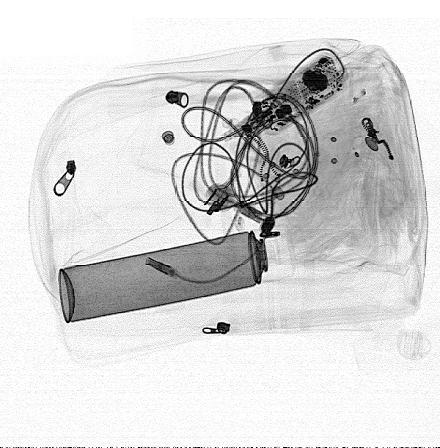Sprayer: (59, 225, 297, 325)
